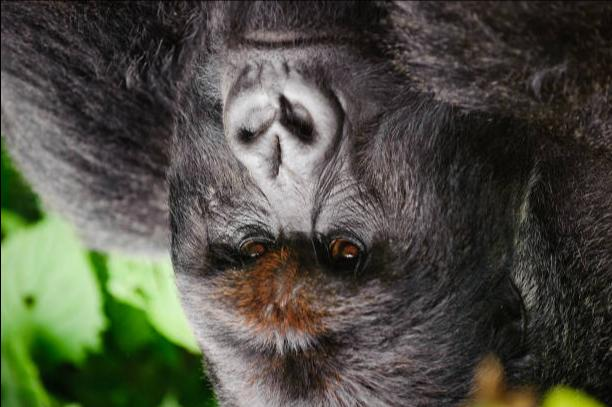goriile_montagne: (3, 0, 606, 407)
